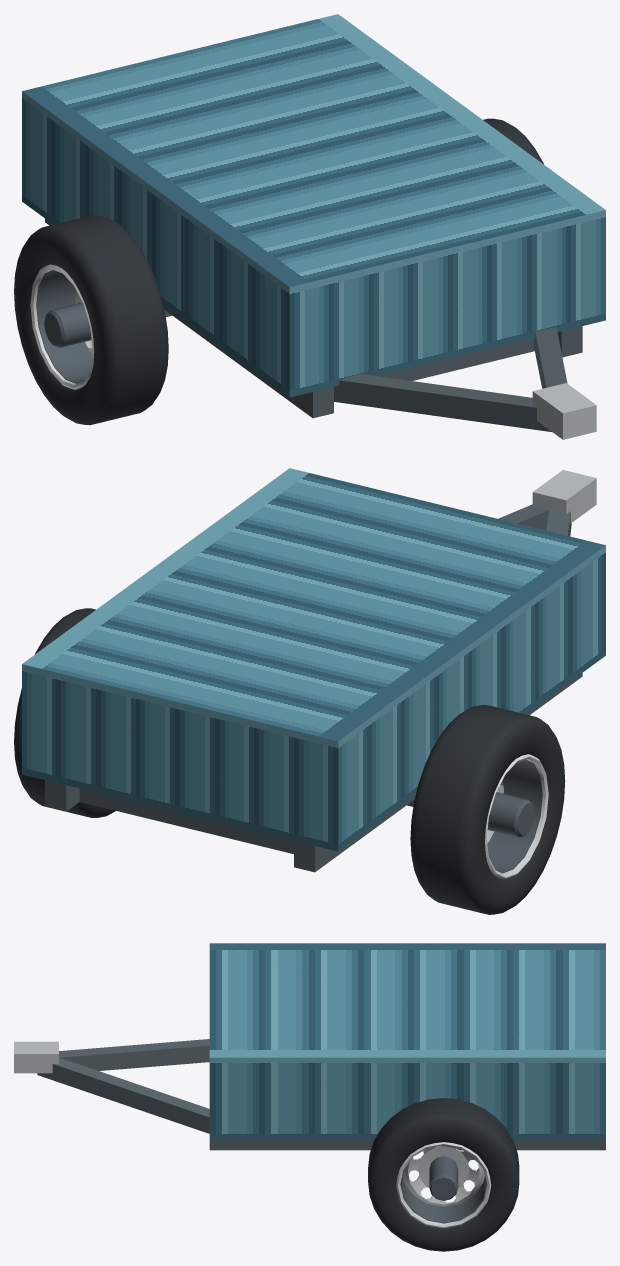
File: small-trailer.glb
The picture shows the model from 3 angles, top to bottom: view 1: azimuth 30°, elevation 25°; view 2: azimuth 150°, elevation 25°; view 3: azimuth 270°, elevation 25°; orthographic projection. The views are drawn at different scales.
Parts seen in each view (by area): view 1: body, Smooth shoulder tire.002, Inner rim barrel.002, Stepped axle hub.002, Rolled silver rim lip.004, Smooth shoulder tire.001; view 2: body, Smooth shoulder tire.002, Inner rim barrel.002, Smooth shoulder tire.001, Stepped axle hub.002, Rolled silver rim lip.004; view 3: body, Smooth shoulder tire.001, Steel dish with eight octagonal vents.001, Inner rim barrel.001, Rolled silver rim lip.002, Stepped axle hub.001.
Part boxes in pixels (<box>): body: <box>22,14,605,439</box>; Smooth shoulder tire.002: <box>14,215,168,425</box>; Inner rim barrel.002: <box>36,270,91,383</box>; Stepped axle hub.002: <box>44,302,91,347</box>; Rolled silver rim lip.004: <box>30,264,94,389</box>; Smooth shoulder tire.001: <box>483,118,543,164</box>; body: <box>22,468,605,872</box>; Smooth shoulder tire.002: <box>410,705,565,914</box>; Inner rim barrel.002: <box>487,759,542,873</box>; Smooth shoulder tire.001: <box>14,608,115,817</box>; Stepped axle hub.002: <box>487,792,534,837</box>; Rolled silver rim lip.004: <box>485,754,548,879</box>; body: <box>14,943,605,1150</box>; Smooth shoulder tire.001: <box>368,1098,519,1251</box>; Steel dish with eight octagonal vents.001: <box>402,1145,484,1206</box>; Inner rim barrel.001: <box>400,1157,487,1223</box>; Rolled silver rim lip.002: <box>396,1142,491,1228</box>; Stepped axle hub.001: <box>429,1156,458,1200</box>.
Bounding box in the file's own units: 2.25 × 1.05 × 3.28.
Materials: 7 (1 with a texture image).
